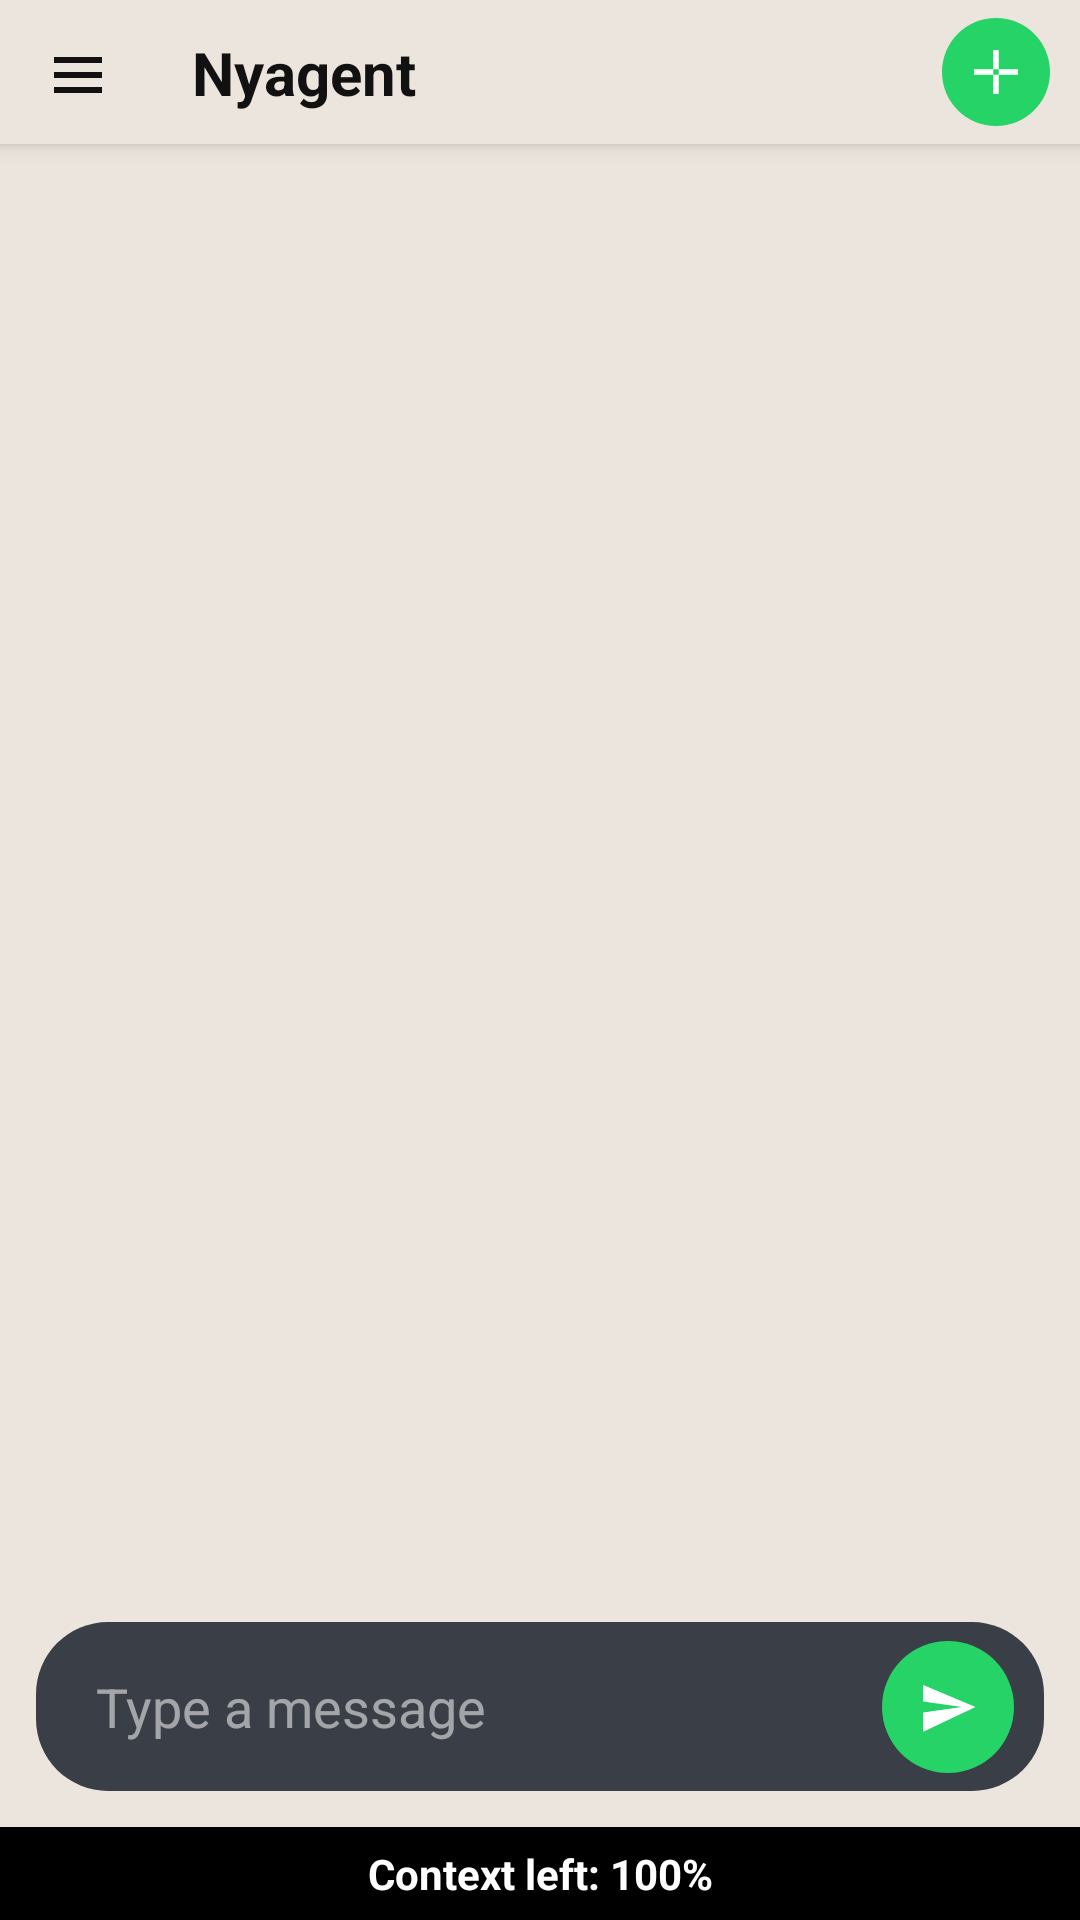

Icon click points for this 1080*1920 phone screenshot, format (x,y):
Menu: (78,75)
New chat: (996,72)
Send: (948,1707)
